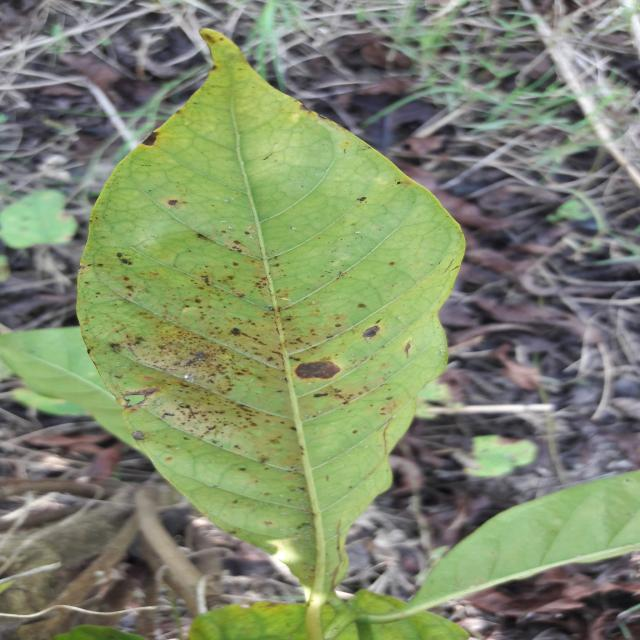Plaga-AranaRoja: (74, 29, 466, 608)
